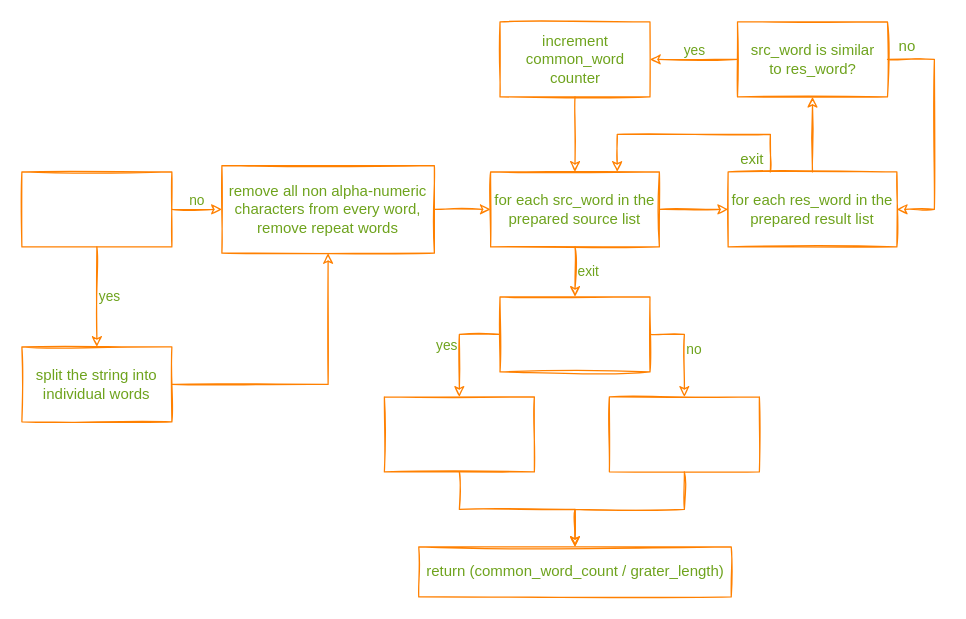
The diagram is 966 pixels wide and 619 high, and some of its shapes have lost their labels. Here are the shapes that lost their labels. From the top down, the centre of each, then its label:
At [96,209]: "src_list or res_list is actually a str?".
At [574,334]: "src_list length > res_list length?".
At [458,434]: "grater_length = src_list length".
At [683,434]: "grater_length = res_list length".
